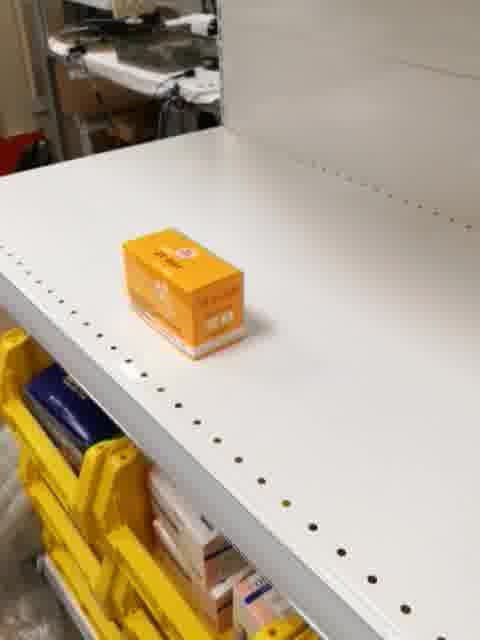jasminetea: (119, 224, 248, 363)
